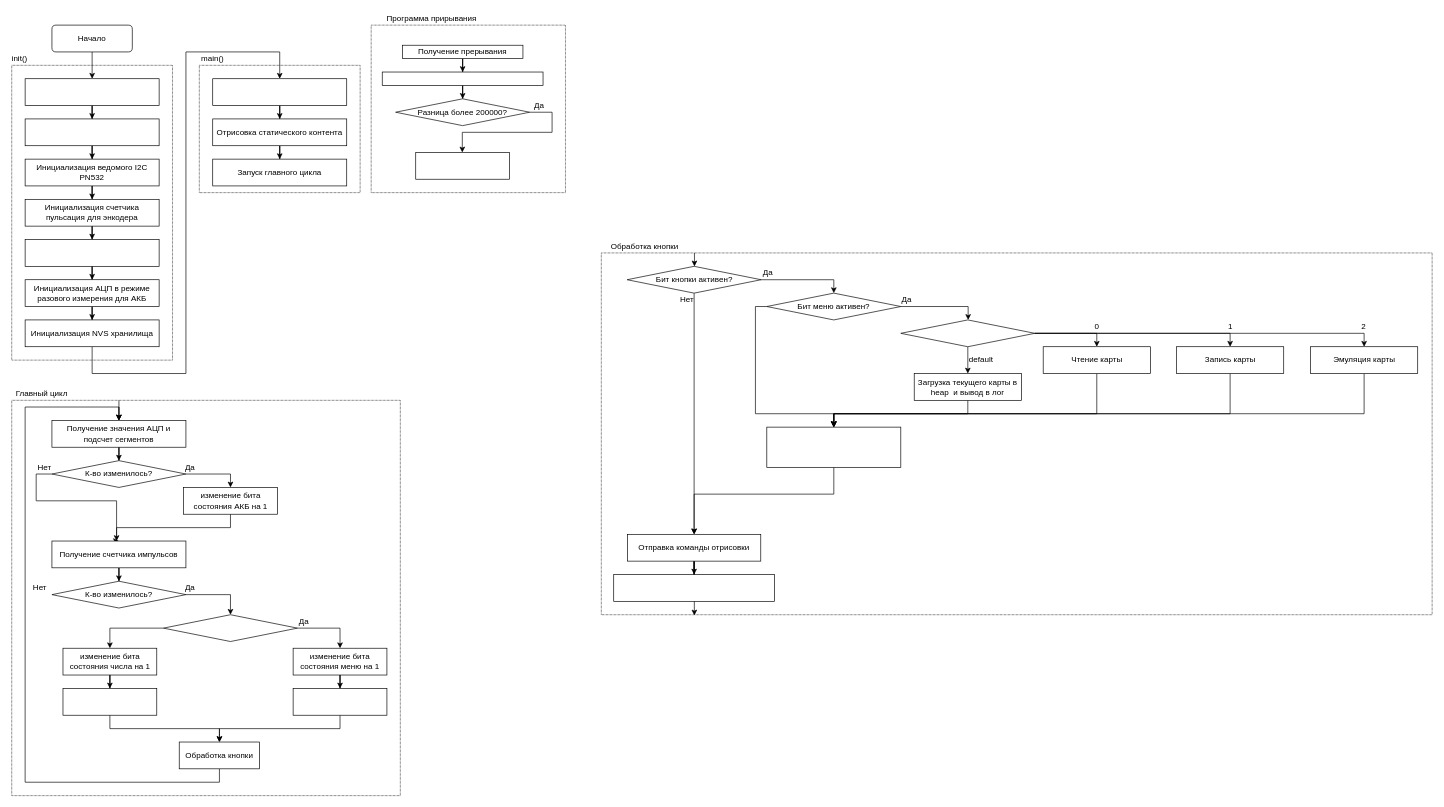
The diagram is 1444 pixels wide and 807 high, and some of its shapes have lost their labels. Here are the shapes that lost their labels. From the top down, the box of each, then its label:
(24, 78, 159, 106): Инициализация ведущего интерфейса I2C
(212, 78, 347, 106): Выделение памяти под строки
(382, 71, 543, 85): Получения текущего времени в мкс
(24, 118, 159, 146): Инициализация ведомого I2C дисплея
(415, 152, 510, 179): изменение бита состояния кнопки на 1
(24, 239, 159, 266): Инициализация GPIO для кнопки и привязка обработчика прерывания
(900, 319, 1035, 347): номер выбраной кнопки
(766, 426, 901, 467): Сброс бита кнопки Переворот бита меню установка бита индекса меню
(613, 574, 775, 601): Сброс состояния (сохранен бит кнопки и активности меню)
(163, 614, 297, 642): Меню активно?
(62, 688, 157, 715): изменение индекса номера карты
(292, 688, 387, 715): изменение индекса меню
